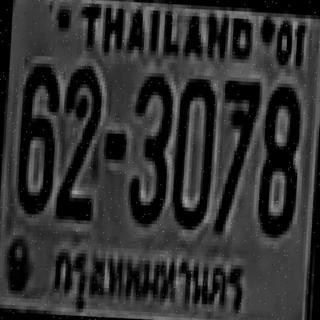N00: (169, 74, 216, 227)
N02: (55, 68, 102, 218), (58, 65, 102, 206)
N03: (124, 72, 172, 224)
N06: (14, 62, 59, 212)
N07: (214, 77, 259, 233)
N08: (255, 84, 300, 234)
P04: (49, 241, 255, 320)
